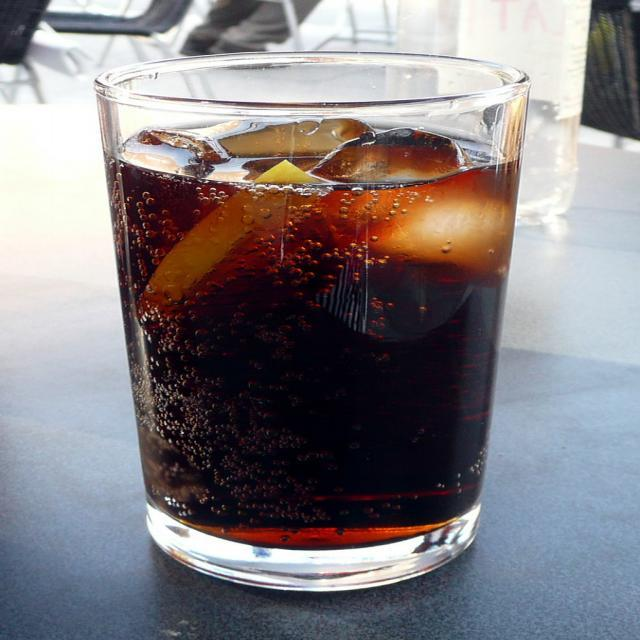Coke: (84, 50, 534, 602)
